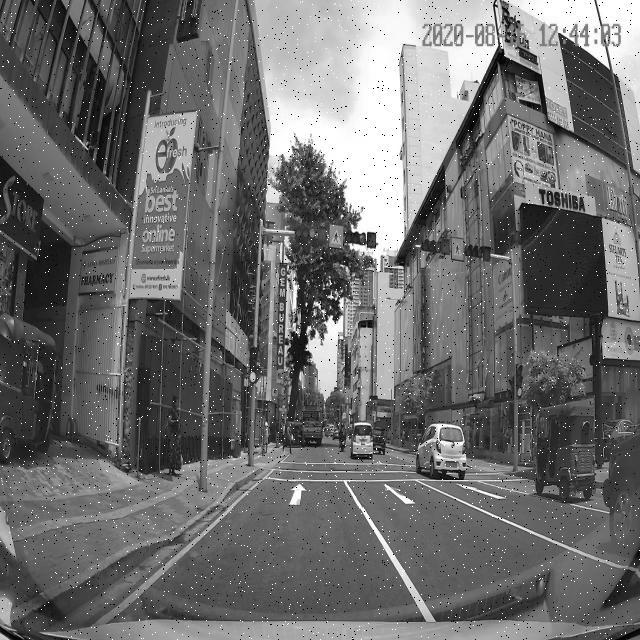forward: (223, 480, 363, 509)
